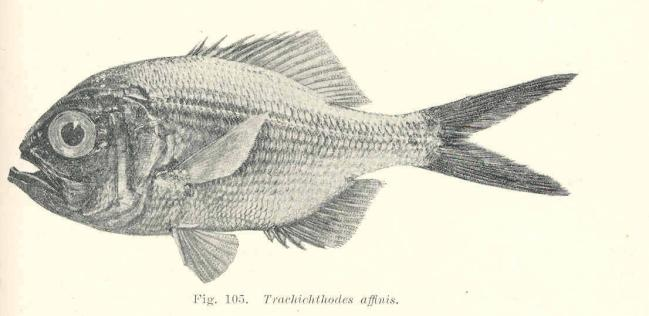fish: (8, 30, 579, 287)
